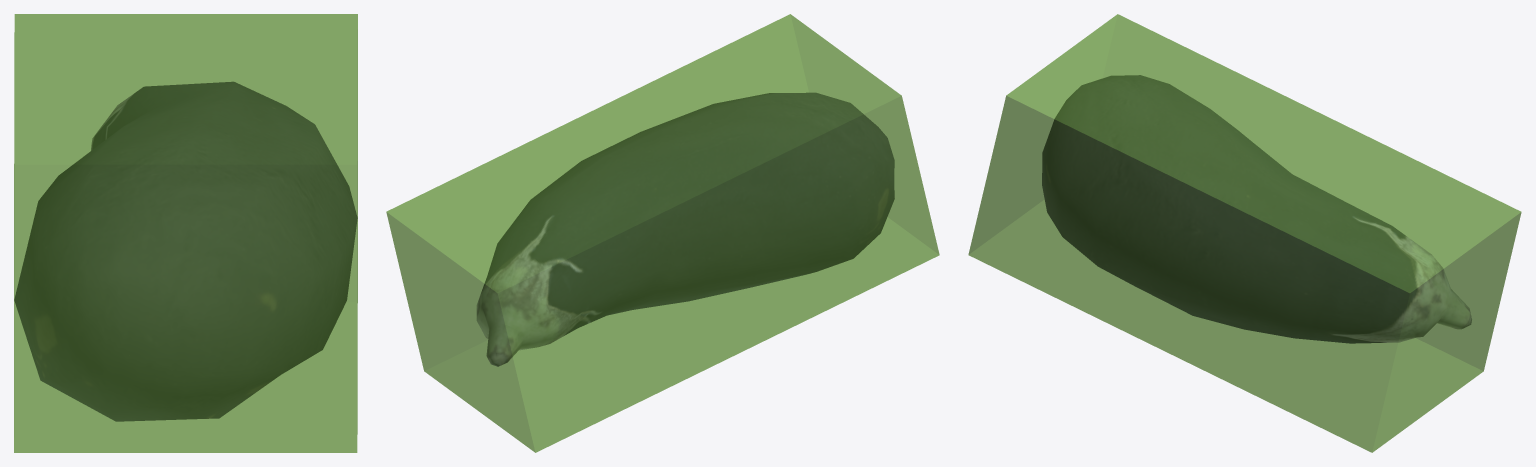
File: pg_Aubergine_01.fbx
The picture shows the model from 3 angles, left to right: view 1: azimuth 30°, elevation 25°; view 2: azimuth 150°, elevation 25°; view 3: azimuth 270°, elevation 25°; orthographic projection. The views are drawn at different scales.
Parts seen in each view (by area): view 1: pg_Aubergine_01_a_col, pg_Aubergine_01_a_LOD0; view 2: pg_Aubergine_01_a_col, pg_Aubergine_01_a_LOD0; view 3: pg_Aubergine_01_a_col, pg_Aubergine_01_a_LOD0.
Boxes of the visible parts, x1,y1,x2,y2 form: pg_Aubergine_01_a_col: [14, 14, 357, 452]; pg_Aubergine_01_a_LOD0: [14, 81, 357, 421]; pg_Aubergine_01_a_col: [386, 14, 939, 452]; pg_Aubergine_01_a_LOD0: [476, 92, 894, 366]; pg_Aubergine_01_a_col: [968, 14, 1521, 452]; pg_Aubergine_01_a_LOD0: [1042, 75, 1471, 343].
Size of what is drawn, in the model's own units: 22.16 by 14.61 by 27.34.
